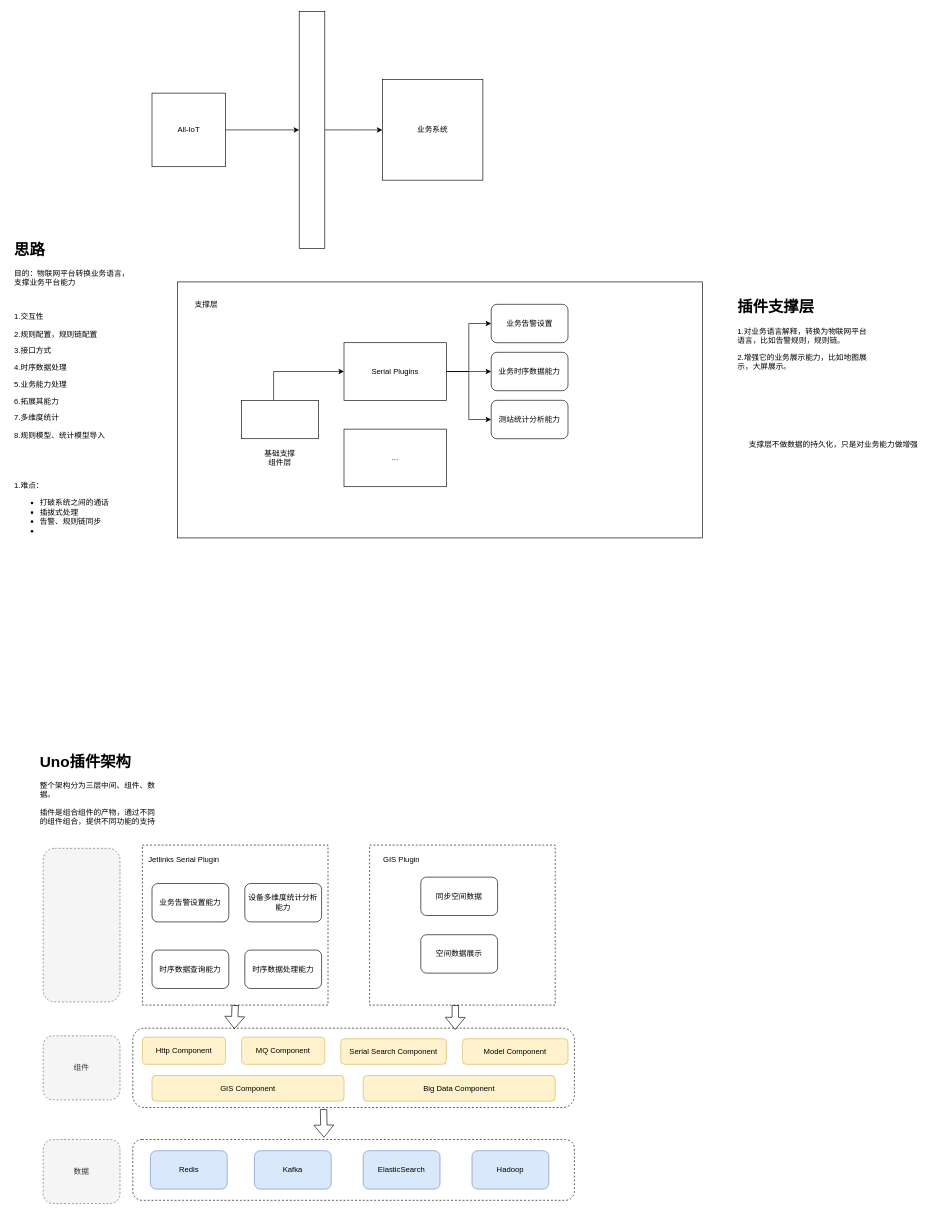
This 950x1215 diagram has some shape labels left out. The shapes that lost their labels are listed below. From the top down, each one's centre as x and y in pixels, then its label:
(x=312, y=129): 插件 支撑层
(x=279, y=419): Components
(x=81, y=925): 插件
